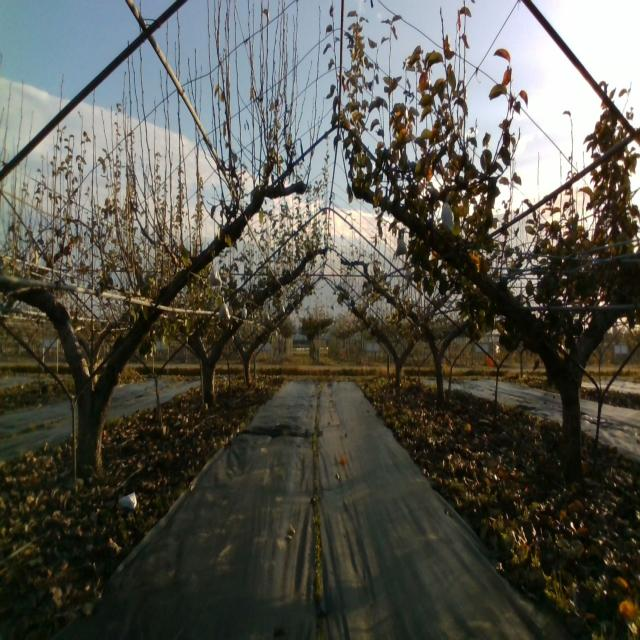pearbags: (441, 200, 454, 232), (218, 298, 230, 322), (208, 266, 221, 287), (395, 234, 407, 256)
